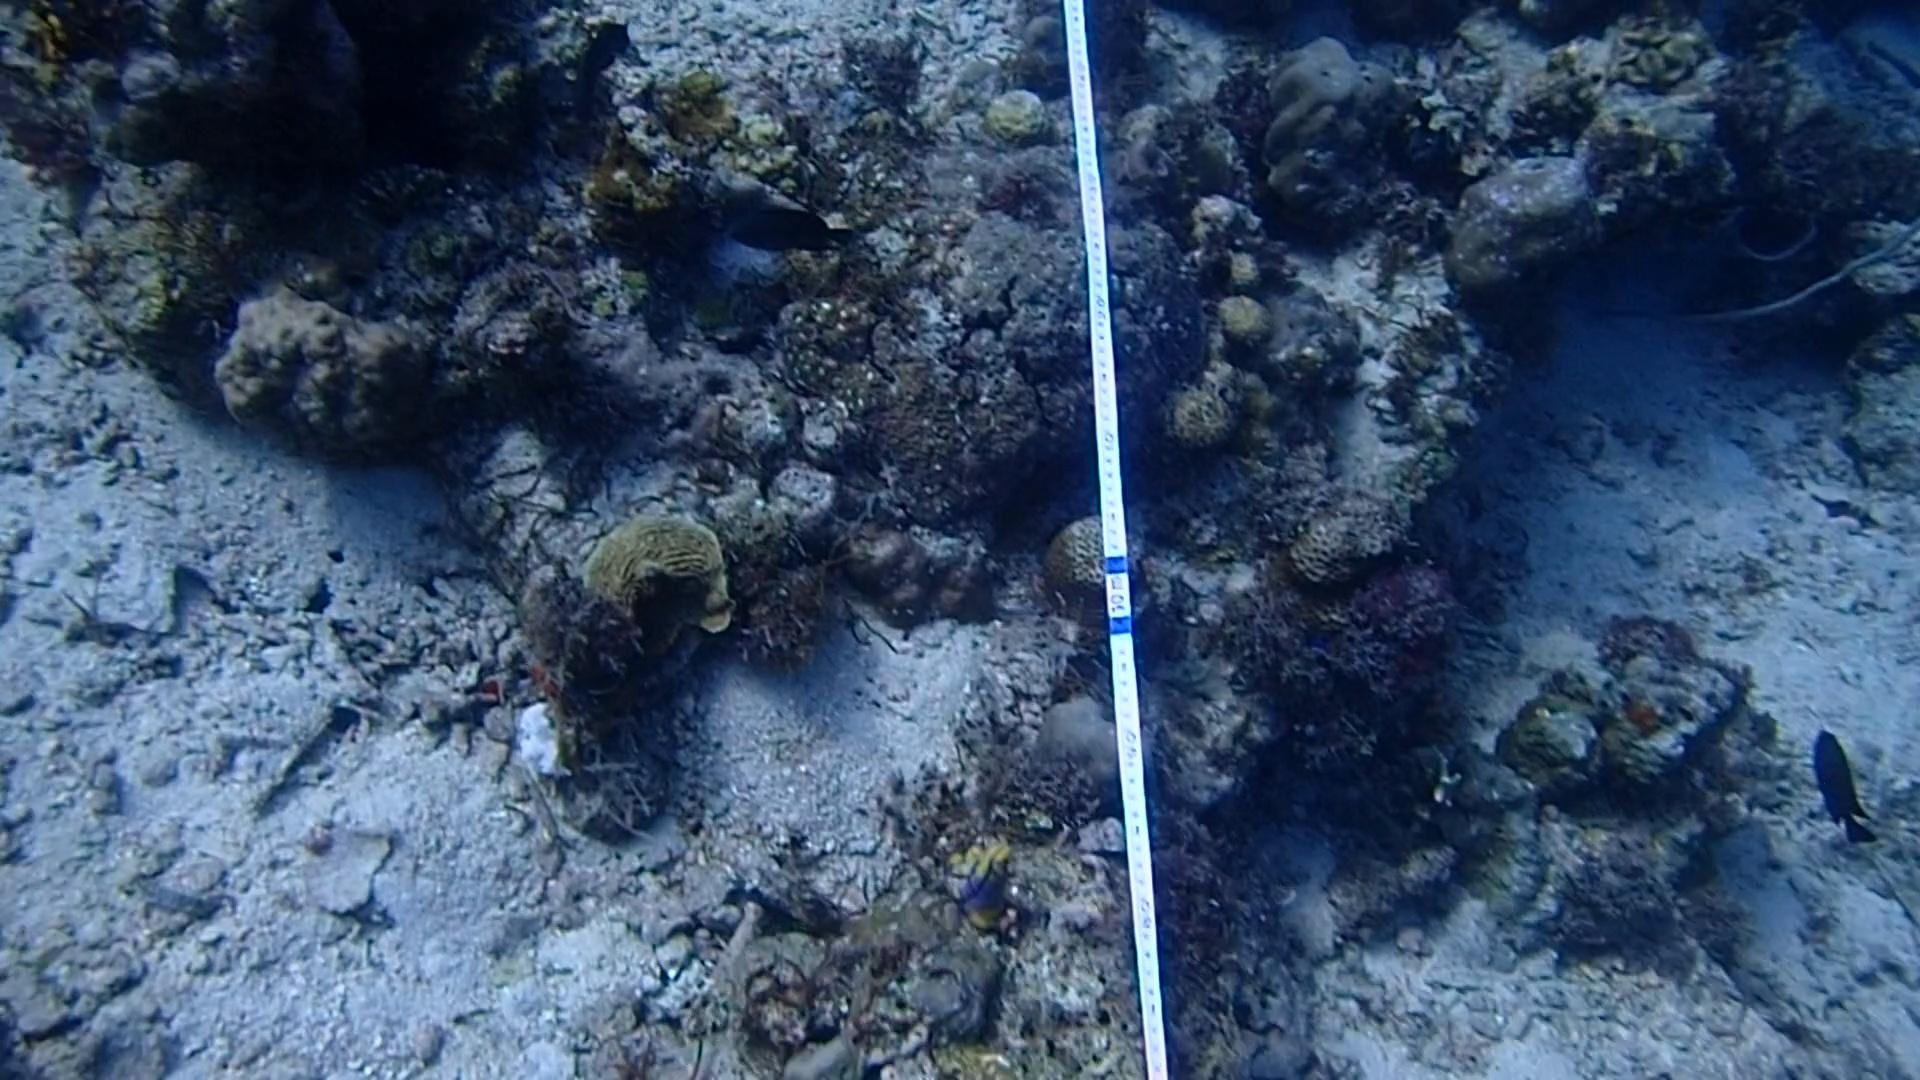Dark Fish: (1784, 712, 1894, 852), (711, 183, 861, 262)
